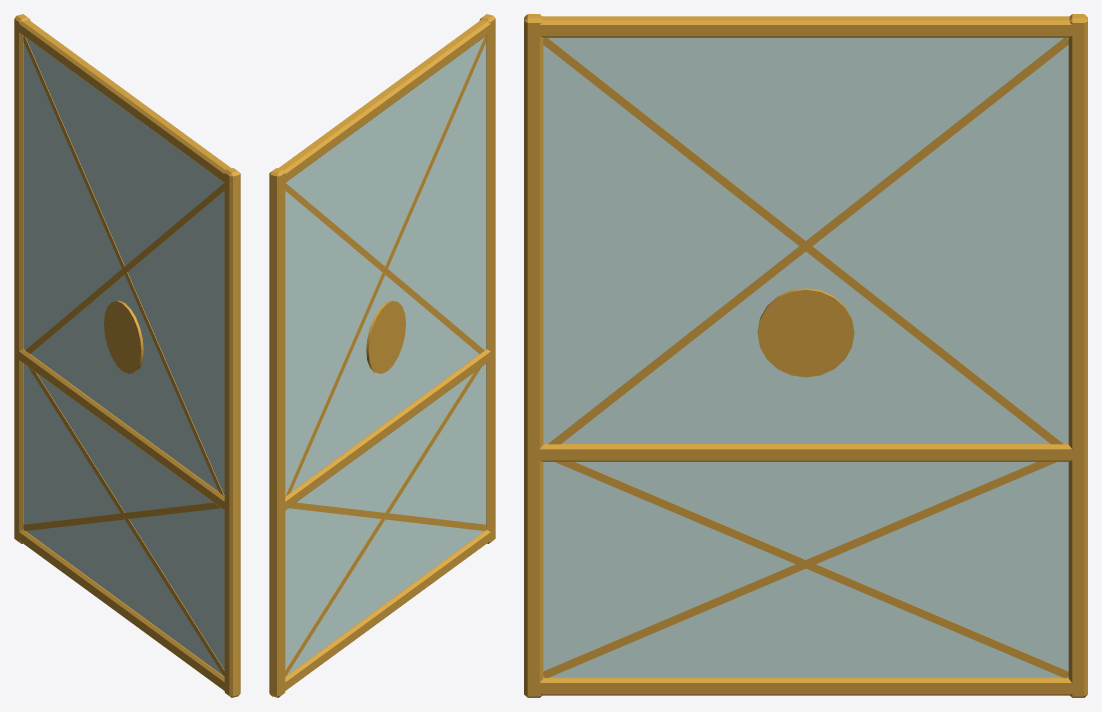
The model's file is CR-Lift-Gate-Leaf.glb.
3 renders of one model, left to right at view 1: azimuth 30°, elevation 25°; view 2: azimuth 150°, elevation 25°; view 3: azimuth 270°, elevation 25°, orthographic. The views are drawn at different scales.
Visible parts, largest first — view 1: gate_leaf; view 2: gate_leaf; view 3: gate_leaf.
Boxes of the visible parts, <box> form: gate_leaf: <box>14,14,240,697</box>; gate_leaf: <box>269,14,495,697</box>; gate_leaf: <box>524,14,1087,697</box>.
Bounding box in the file's own units: 0.07 × 3.1 × 2.33.
